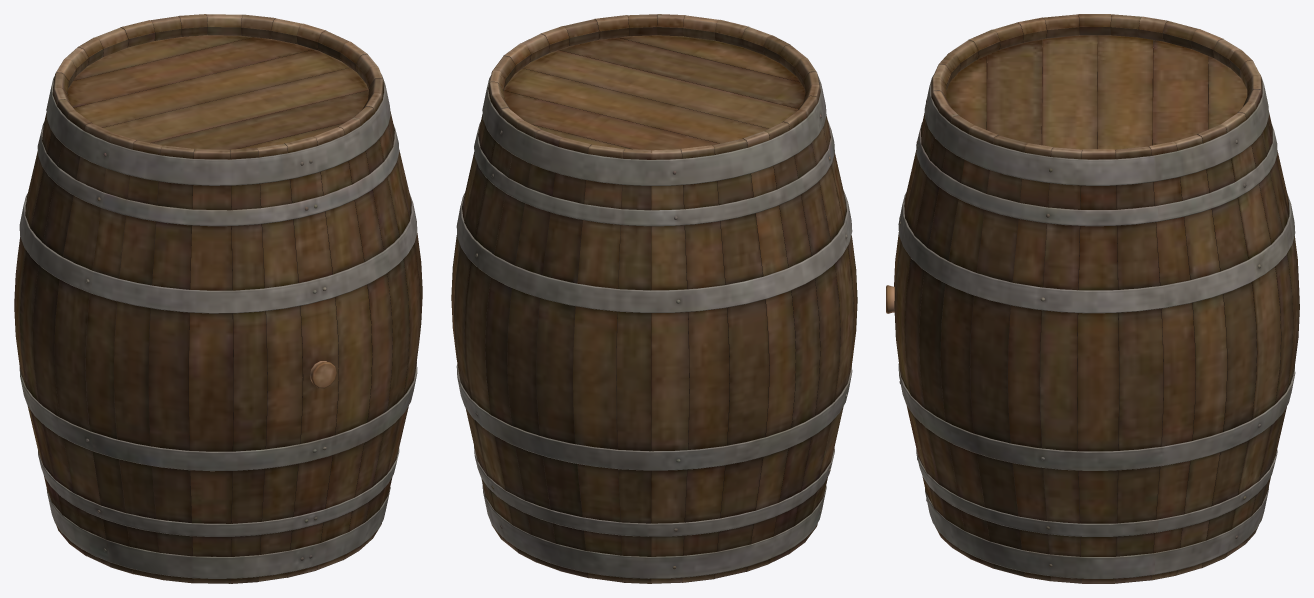
The model's file is wine_barrel_01.glb.
The picture shows the model from 3 angles, left to right: view 1: azimuth 30°, elevation 25°; view 2: azimuth 150°, elevation 25°; view 3: azimuth 270°, elevation 25°; orthographic projection.
Parts seen in each view (by area): view 1: wine_barrel_01, wine_barrel_01_Lid, wine_barrel_01_bung; view 2: wine_barrel_01, wine_barrel_01_Lid; view 3: wine_barrel_01, wine_barrel_01_Lid.
Part boxes in pixels (x1,y1,x2,y2): wine_barrel_01: [14, 14, 422, 583]; wine_barrel_01_Lid: [67, 35, 368, 149]; wine_barrel_01_bung: [310, 361, 336, 388]; wine_barrel_01: [451, 14, 857, 583]; wine_barrel_01_Lid: [503, 35, 805, 152]; wine_barrel_01: [894, 14, 1299, 583]; wine_barrel_01_Lid: [946, 35, 1247, 149].
Bounding box in the file's own units: 0.7419 × 0.8713 × 0.756.
Materials: 1 (1 with a texture image).
